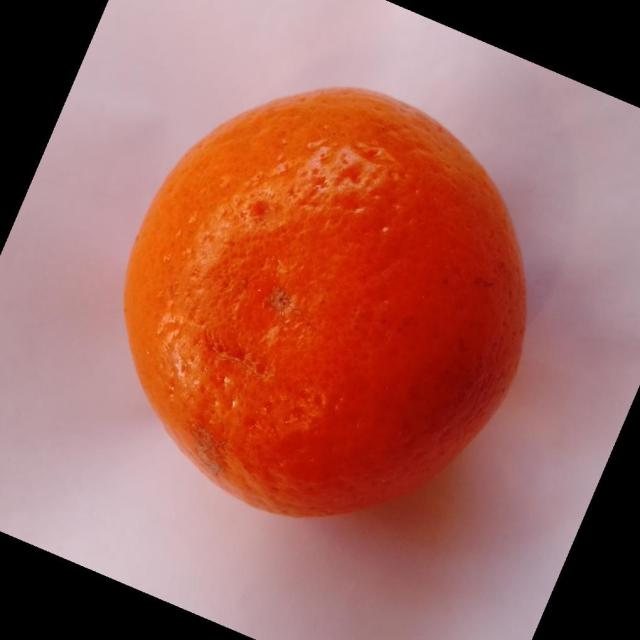fresh orange: (122, 85, 528, 519)
